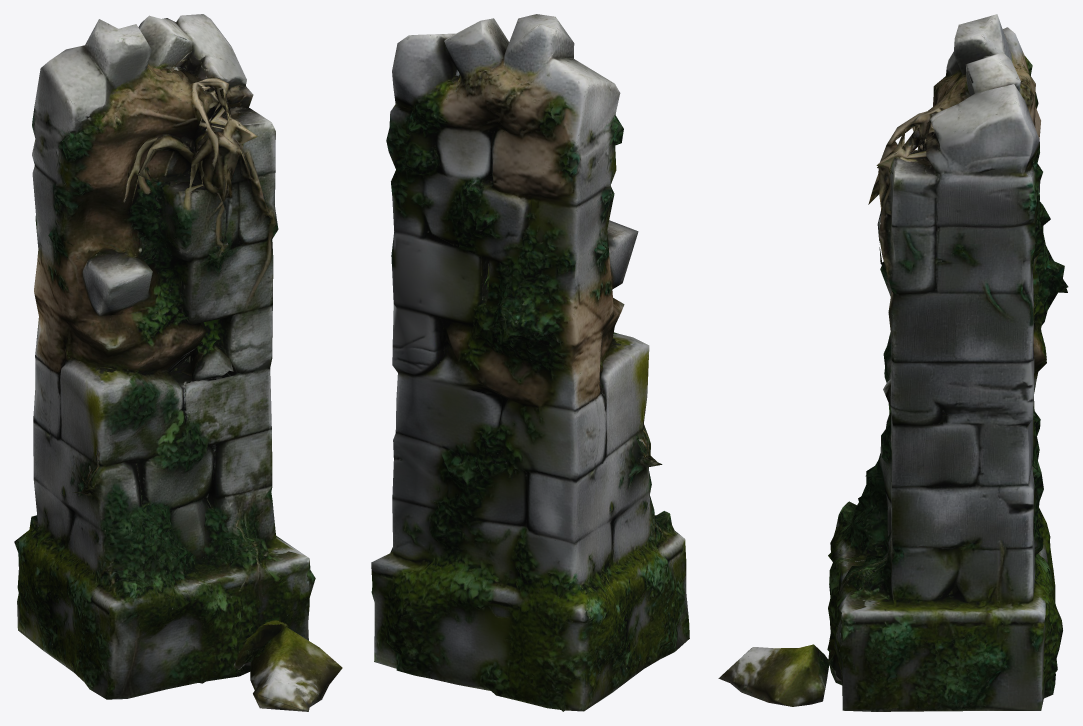
The model's file is Cementery_Pillar_Vari.glb.
3 renders of one model, left to right at view 1: azimuth 30°, elevation 25°; view 2: azimuth 150°, elevation 25°; view 3: azimuth 270°, elevation 25°, orthographic. The views are drawn at different scales.
Parts seen in each view (by area): view 1: Cementery_Pillar_Vari; view 2: Cementery_Pillar_Vari; view 3: Cementery_Pillar_Vari.
Boxes of the visible parts, x1,y1,x2,y2 form: Cementery_Pillar_Vari: (14, 14, 342, 711); Cementery_Pillar_Vari: (371, 14, 689, 711); Cementery_Pillar_Vari: (718, 14, 1068, 711).
Bounding box in the file's own units: 0.7098 × 1.94 × 0.9756.
1 material, 1 textured.
